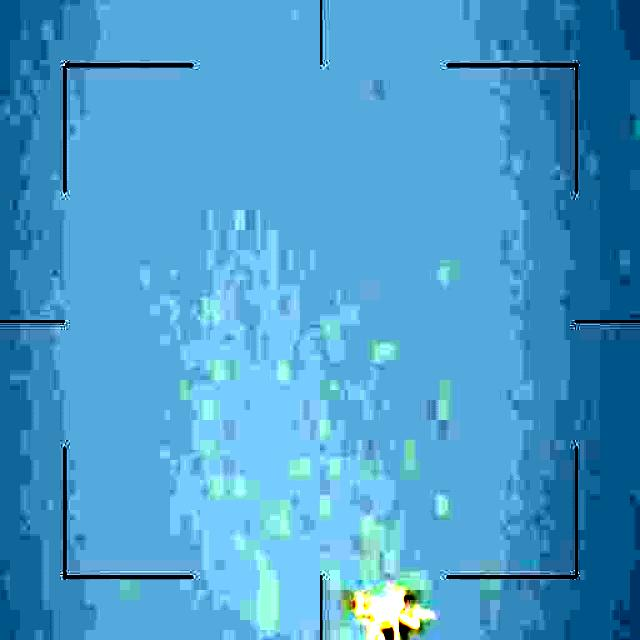bird: (345, 582, 430, 640)
